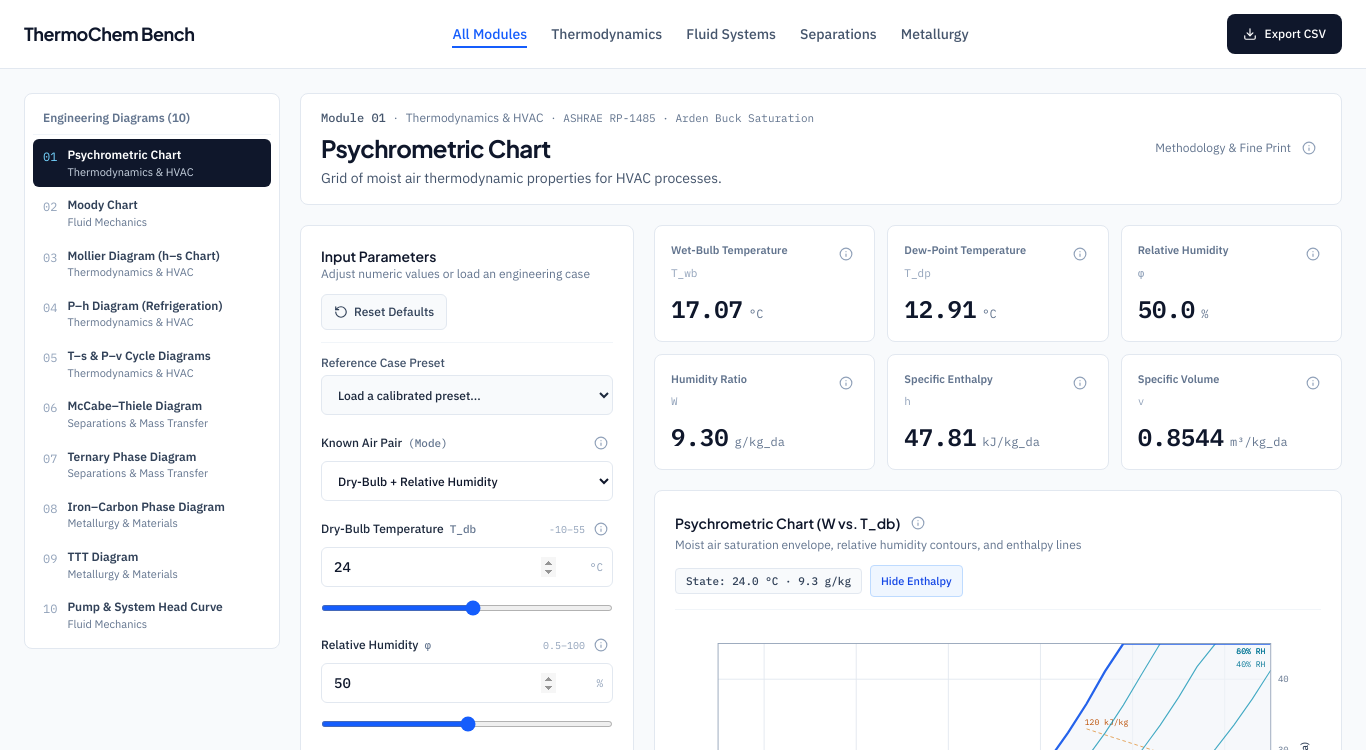
Test: ThermoChem Bench — Integration Flows (Blue Pill & Red Pill) › switches disciplines and diagrams cleanly across all 10 modules
The image size is (1366, 750).
// Switch to Fluid Systems via top bar
Click the button "Fluid Systems": (731, 34) [686,20,776,48]
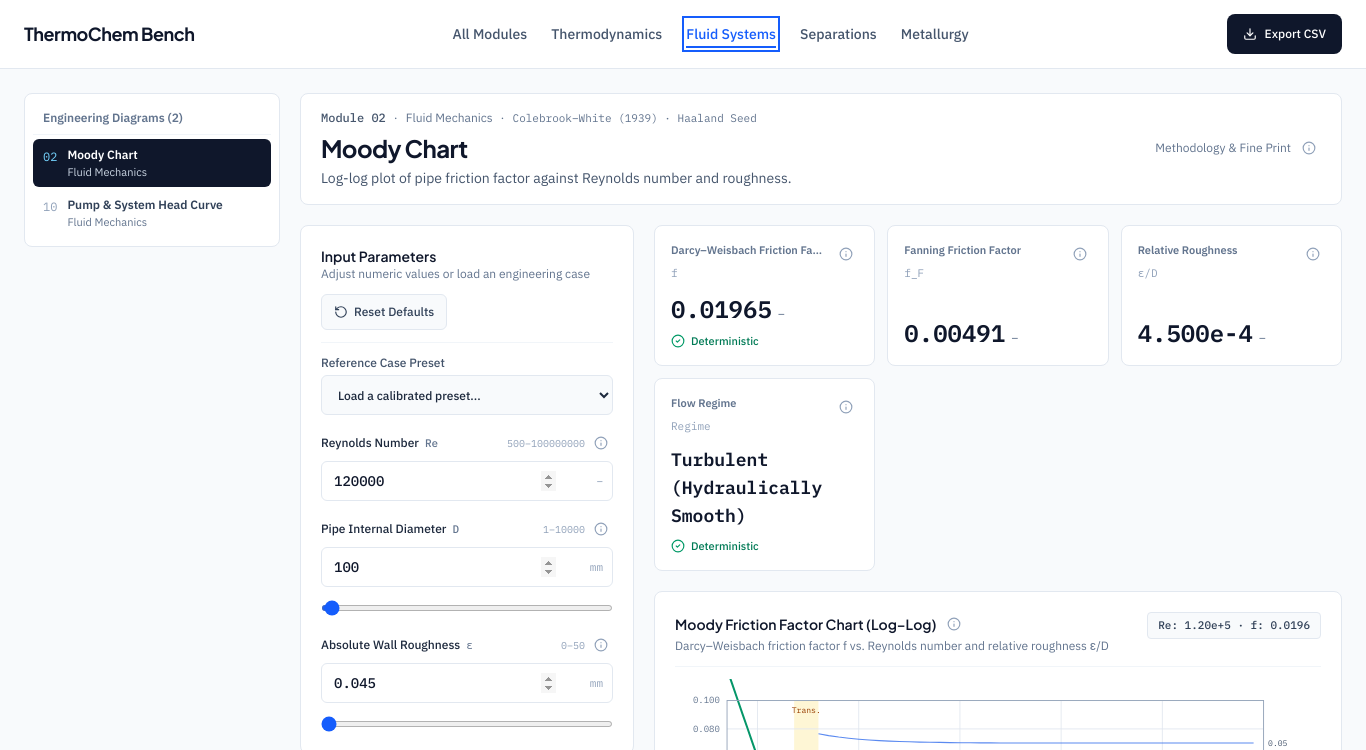
Result: the heading "Moody Chart" is shown at [321,132,468,164]
// Switch to Pump & System Head Curve
Click the button "10 Pump & System Head Curve Fluid Mechanics": (152, 213) [33,189,271,238]
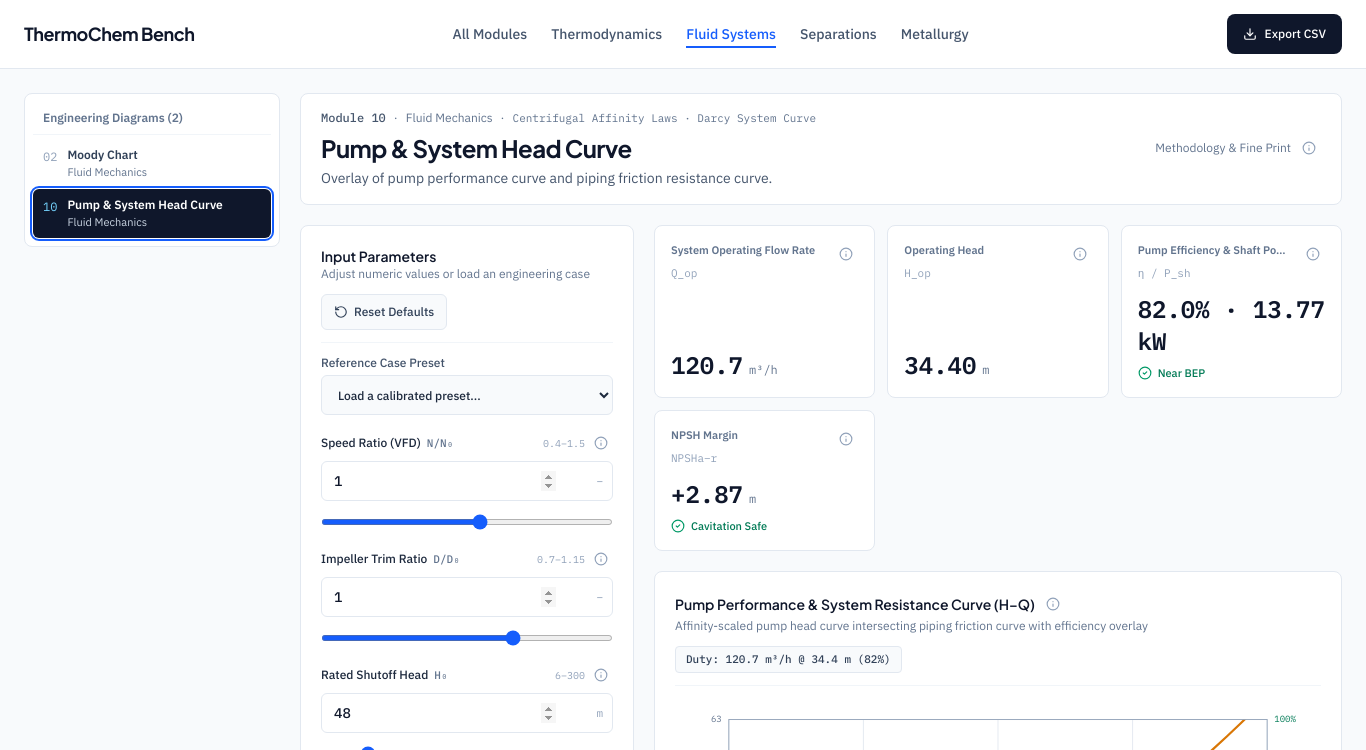
Result: the heading "Pump & System Head Curve" is shown at [321,132,632,164]
Click the button "Separations": (838, 34) [800,20,877,48]
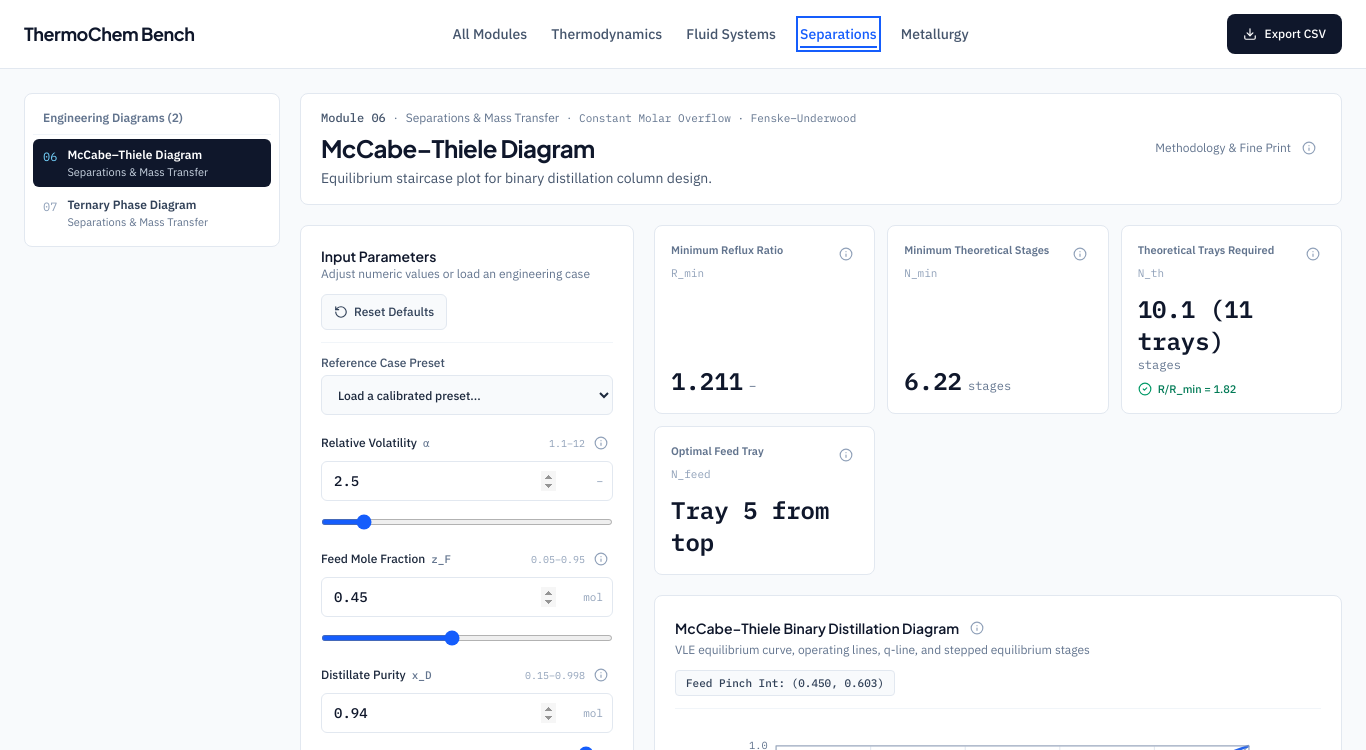
Result: the heading "McCabe–Thiele Diagram" is shown at [321,132,595,164]
Click the button "Metallurgy": (935, 34) [901,20,969,48]
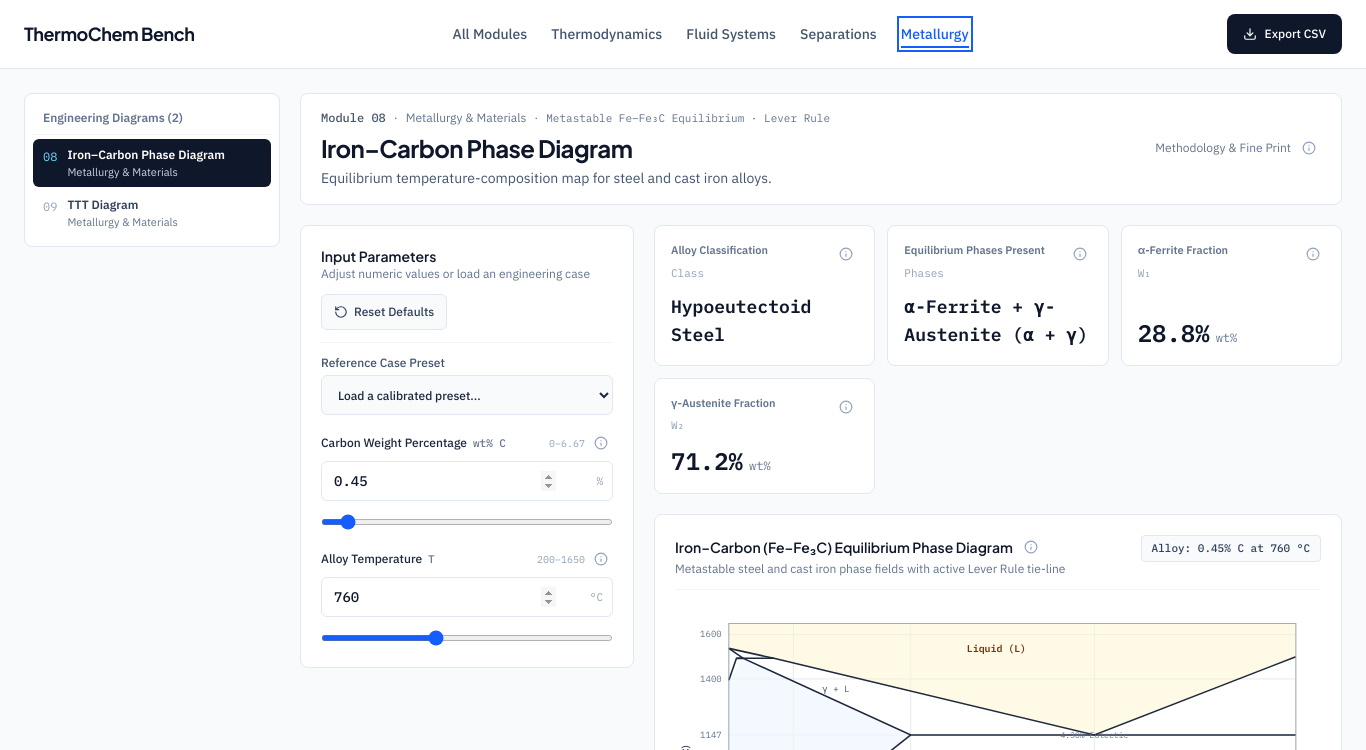
Result: the heading "Iron–Carbon Phase Diagram" is shown at [321,132,632,164]
